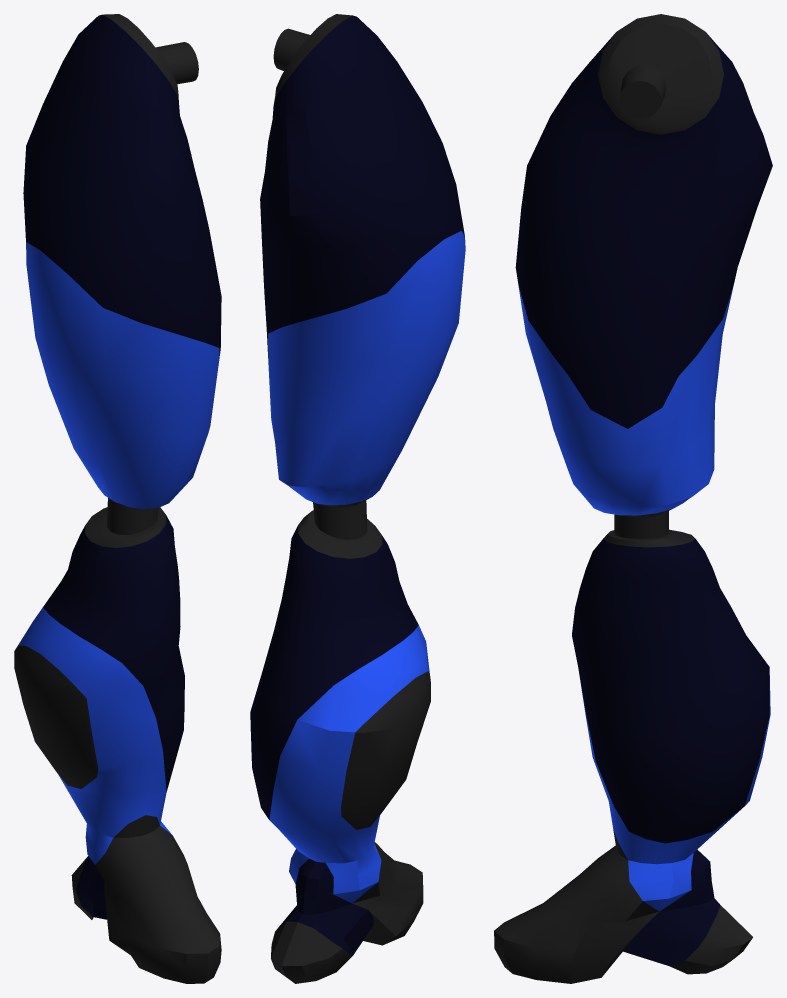
The model's file is PernaDir_3.fbx.
3 renders of one model, left to right at view 1: azimuth 30°, elevation 25°; view 2: azimuth 150°, elevation 25°; view 3: azimuth 270°, elevation 25°, orthographic. The views are drawn at different scales.
Visible parts, largest first — view 1: PernaDir_3; view 2: PernaDir_3; view 3: PernaDir_3.
Part boxes in pixels (left/top/right/bottom): PernaDir_3: left=14, top=14, right=221, bottom=983; PernaDir_3: left=250, top=14, right=465, bottom=983; PernaDir_3: left=494, top=14, right=772, bottom=983.
Size of the model in its own units: 33.23 by 174 by 46.4.
